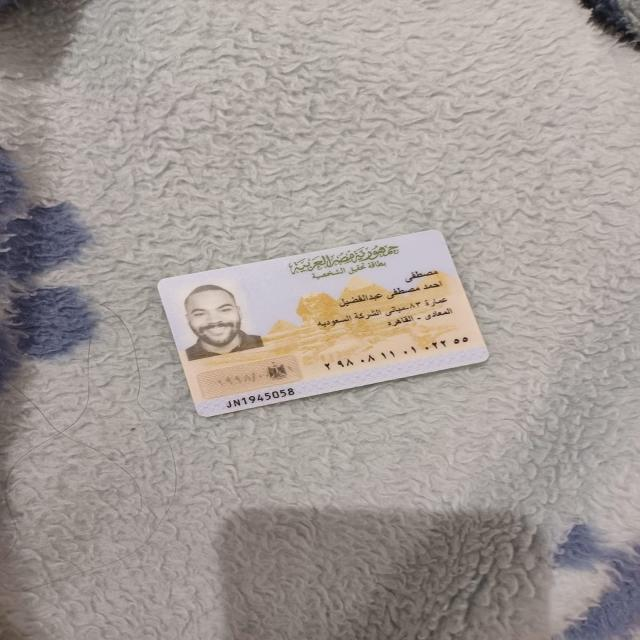id_card: (150, 223, 503, 425)
